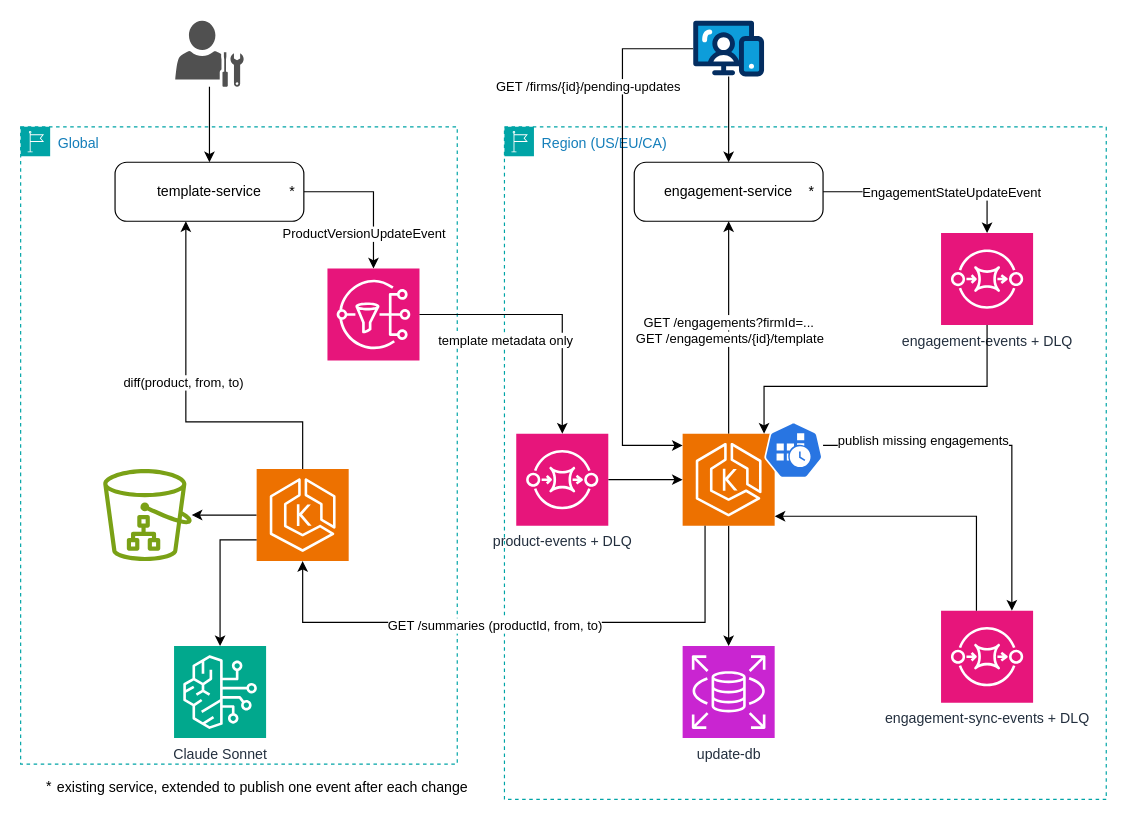
The diagram is 1127 pixels wide and 825 high, and some of its shapes have lost their labels. The centre of each missing label's shape, as x and y in pixels:
daily: the point at 793,449
summary-bucket: the point at 147,514
summary-service: the point at 302,514
update-service: the point at 728,479
